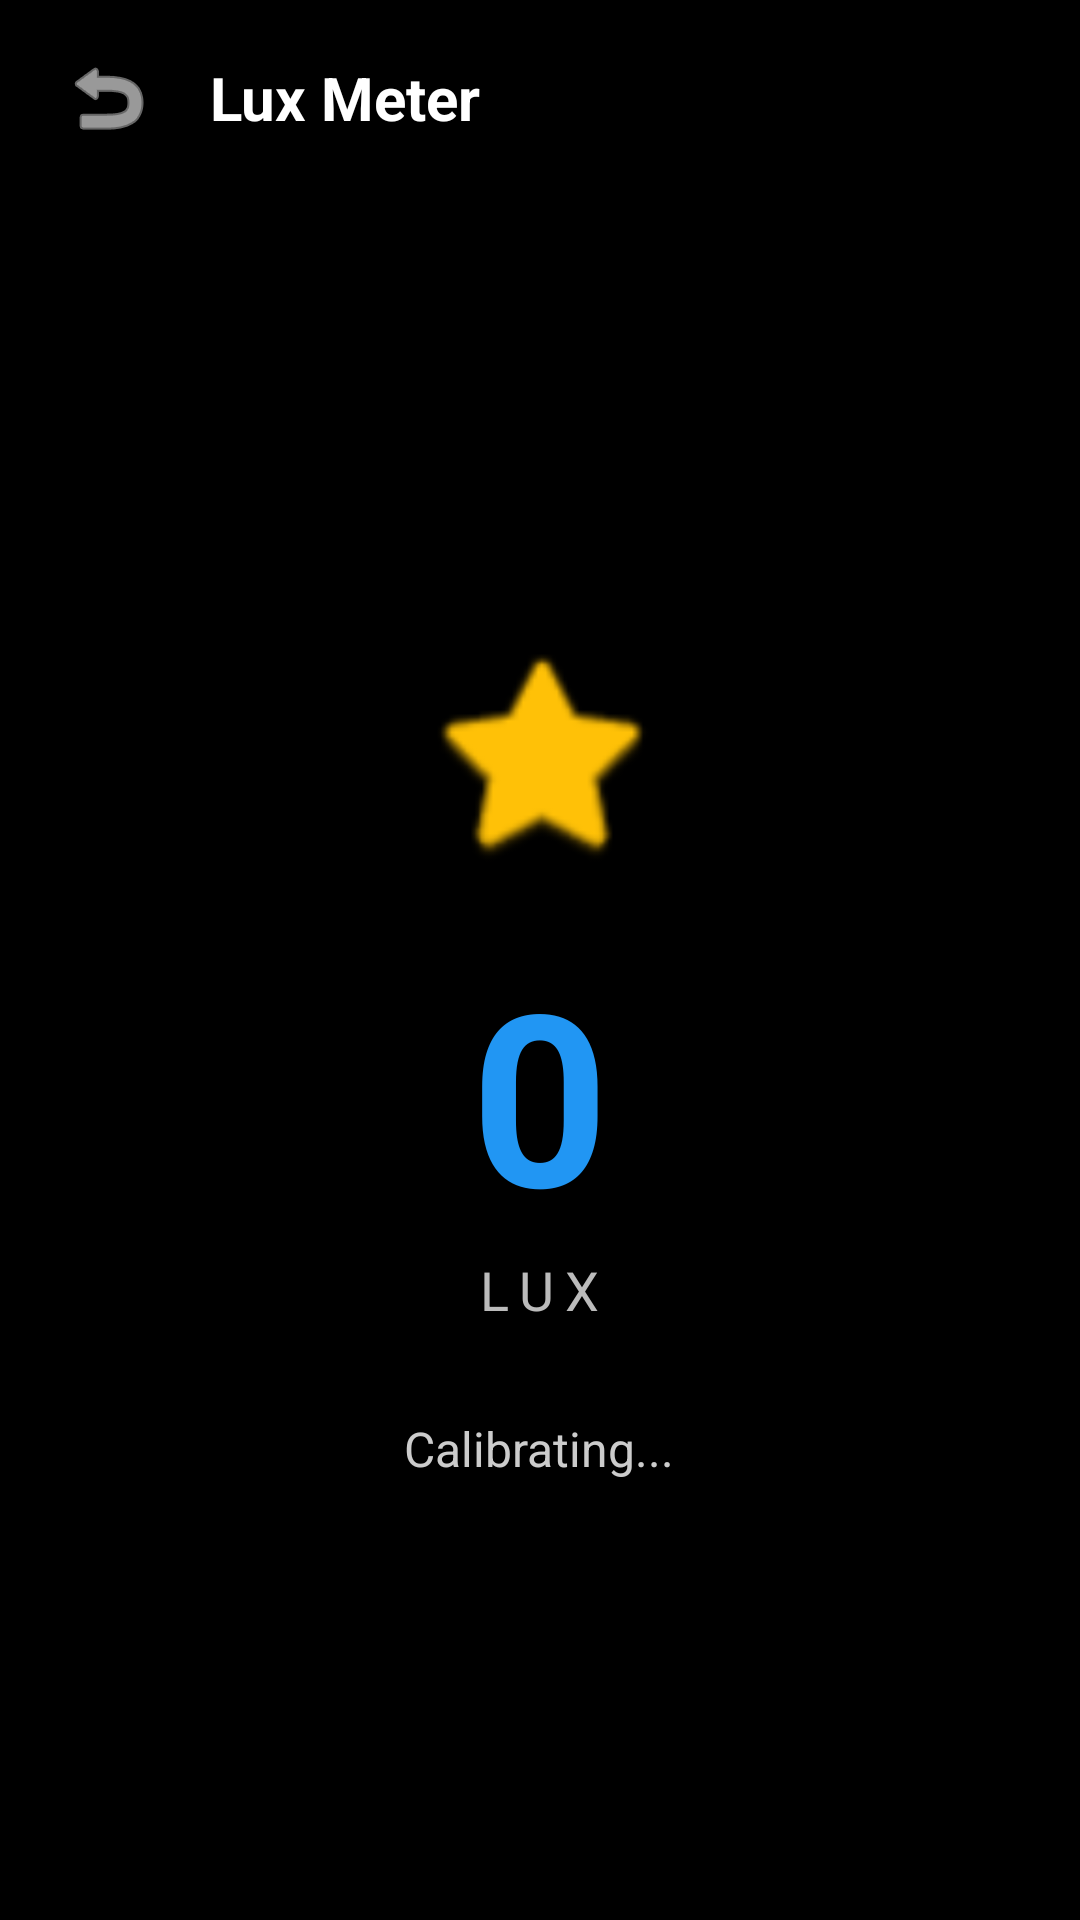

Named icons in this screenshot (1080px x 1920px) and their bounding boxes, (x1, y1, x2, y2):
Back: (75, 67, 144, 130)
star on: (441, 657, 643, 853)
